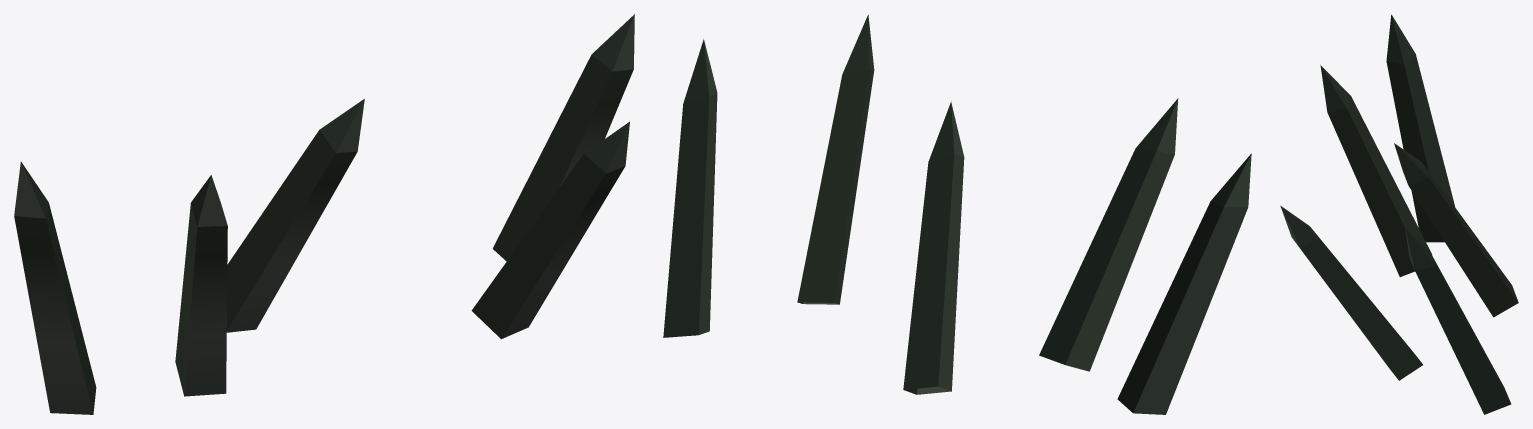
Rendered from SF_Prop_Goblin_Spike_04.glb.
The picture shows the model from 3 angles, left to right: view 1: azimuth 30°, elevation 25°; view 2: azimuth 150°, elevation 25°; view 3: azimuth 270°, elevation 25°; orthographic projection. The views are drawn at different scales.
Parts seen in each view (by area): view 1: SF_Prop_Goblin_Spike_04; view 2: SF_Prop_Goblin_Spike_04; view 3: SF_Prop_Goblin_Spike_04.
Boxes of the visible parts, left/top/right/bottom form: SF_Prop_Goblin_Spike_04: left=14, top=14, right=634, bottom=414; SF_Prop_Goblin_Spike_04: left=663, top=15, right=1251, bottom=414; SF_Prop_Goblin_Spike_04: left=1280, top=14, right=1518, bottom=414.
Size of the model in its own units: 0.1232 by 0.0568 by 0.06.
1 material, 1 textured.
